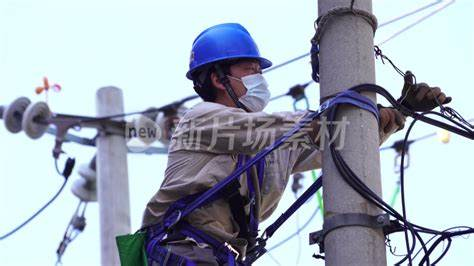safetyhat: (119, 20, 333, 254)
